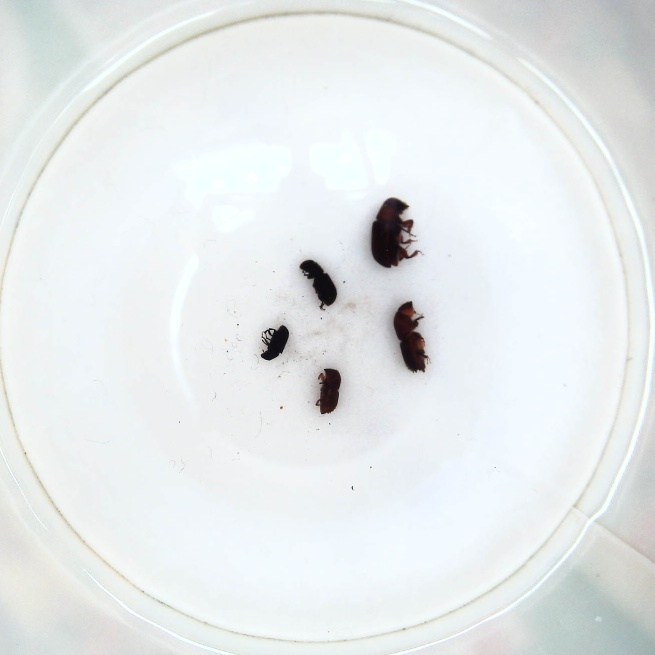armandi: (298, 256, 338, 310)
boerner: (391, 298, 431, 376)
coleoptera: (257, 325, 292, 361)
leconte: (369, 194, 421, 271)
linnaeus: (314, 366, 344, 418)
